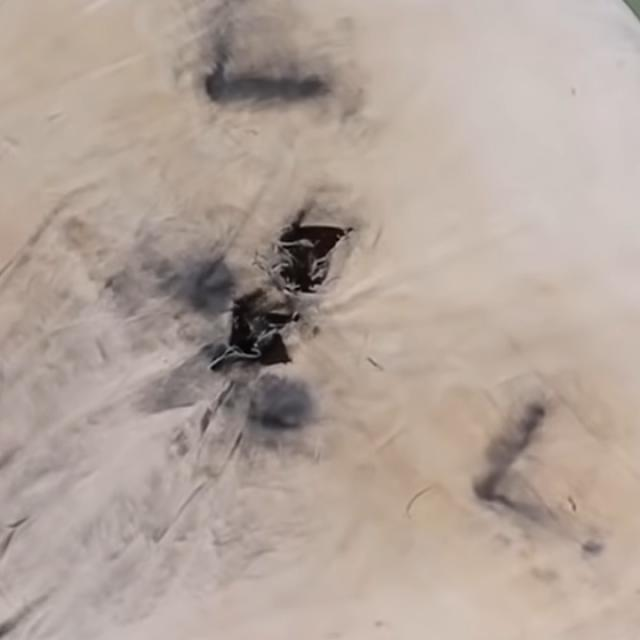bullets: (270, 223, 347, 290), (225, 301, 294, 361)
